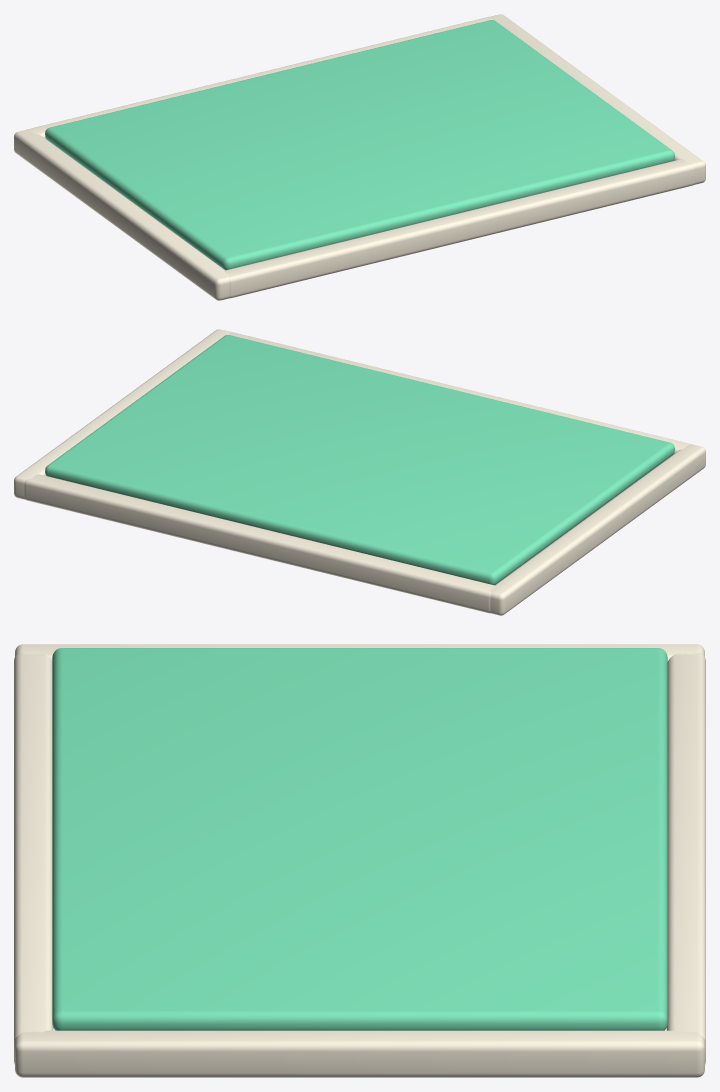
Rendered from RoomWallPanel_Premium.fbx.
3 renders of one model, top to bottom at view 1: azimuth 30°, elevation 25°; view 2: azimuth 150°, elevation 25°; view 3: azimuth 270°, elevation 25°, orthographic. The views are drawn at different scales.
Parts seen in each view (by area): view 1: RoomWallPanel_Premium; view 2: RoomWallPanel_Premium; view 3: RoomWallPanel_Premium.
Boxes of the visible parts, x1,y1,x2,y2 form: RoomWallPanel_Premium: [14, 14, 705, 300]; RoomWallPanel_Premium: [14, 329, 705, 615]; RoomWallPanel_Premium: [14, 644, 705, 1077].
Size of the model in its own units: 1.02 by 0.0585 by 0.742.
